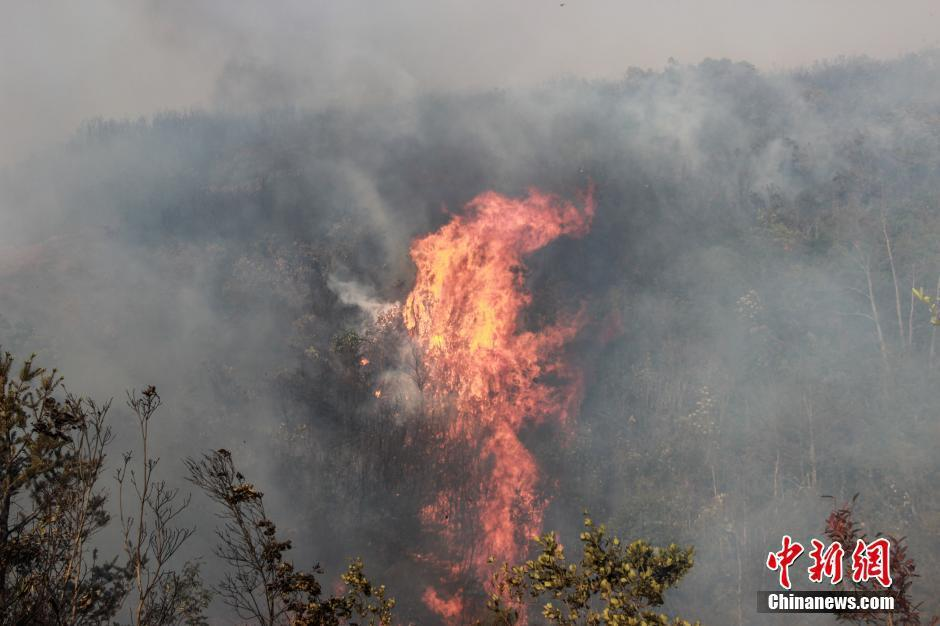fire: (347, 181, 596, 603)
